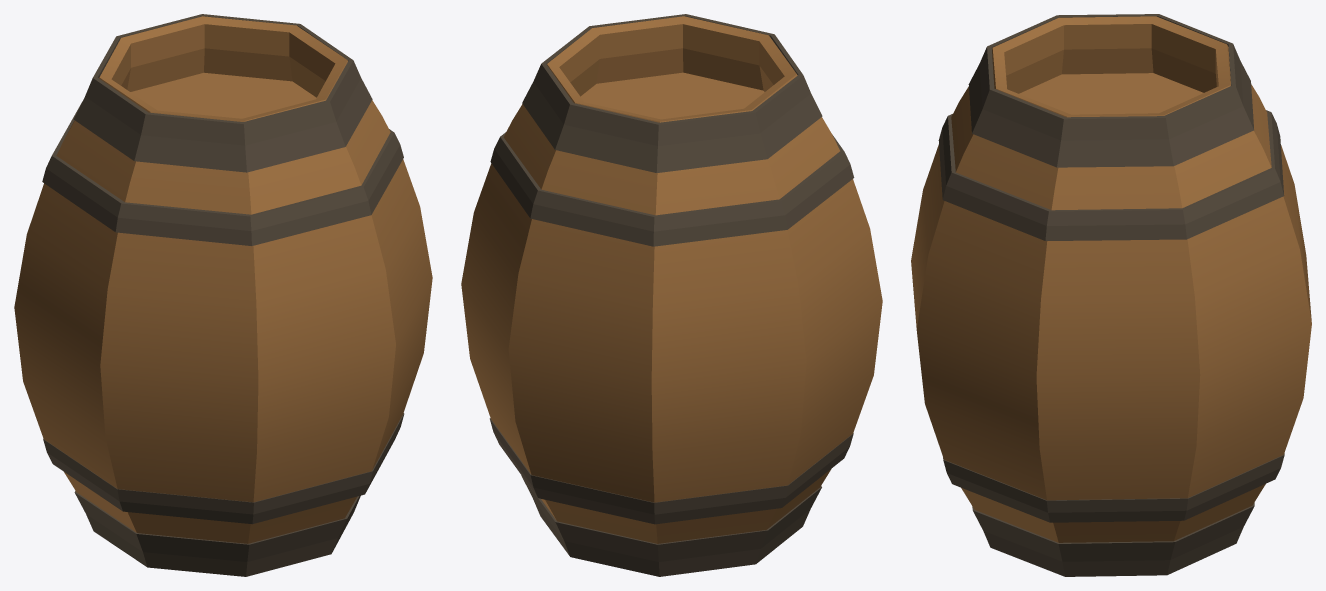
File: Oak0.fbx
3 renders of one model, left to right at view 1: azimuth 30°, elevation 25°; view 2: azimuth 150°, elevation 25°; view 3: azimuth 270°, elevation 25°, orthographic.
Visible parts, largest first — view 1: oak01, Metal0; view 2: oak01, Metal0; view 3: oak01, Metal0.
Part boxes in pixels (x1=…): oak01: x1=14, y1=16, x2=432, y2=543; Metal0: x1=42, y1=14, x2=404, y2=576; oak01: x1=461, y1=16, x2=882, y2=543; Metal0: x1=489, y1=14, x2=854, y2=576; oak01: x1=911, y1=16, x2=1311, y2=542; Metal0: x1=938, y1=14, x2=1284, y2=576.
Bounding box in the file's own units: 11.69 × 14.72 × 11.69.
